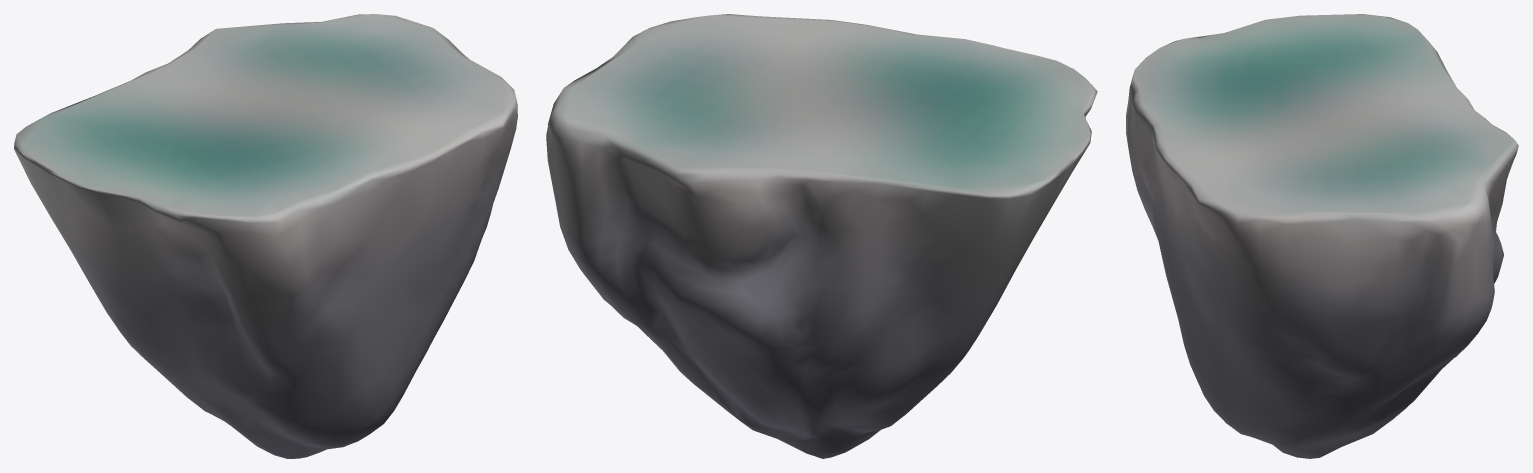
File: S_IslandLarge_VarA.fbx
The picture shows the model from 3 angles, left to right: view 1: azimuth 30°, elevation 25°; view 2: azimuth 150°, elevation 25°; view 3: azimuth 270°, elevation 25°; orthographic projection. The views are drawn at different scales.
Visible parts, largest first — view 1: IslandLarge_VarA_GEO; view 2: IslandLarge_VarA_GEO; view 3: IslandLarge_VarA_GEO.
Boxes of the visible parts, x1,y1,x2,y2 form: IslandLarge_VarA_GEO: [14, 14, 517, 458]; IslandLarge_VarA_GEO: [546, 14, 1097, 458]; IslandLarge_VarA_GEO: [1126, 14, 1518, 458].
Size of the model in its own units: 19.04 by 14.15 by 15.25.
